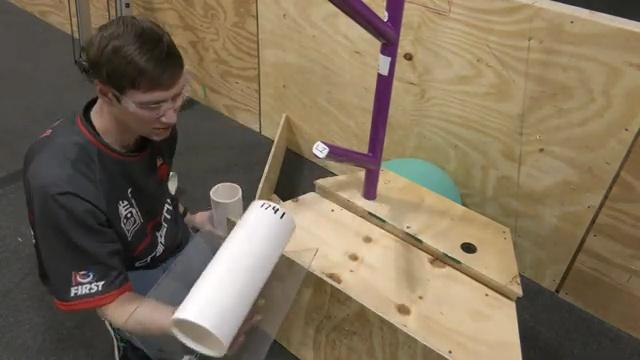CORAL: (168, 197, 296, 356), (211, 183, 243, 226)
